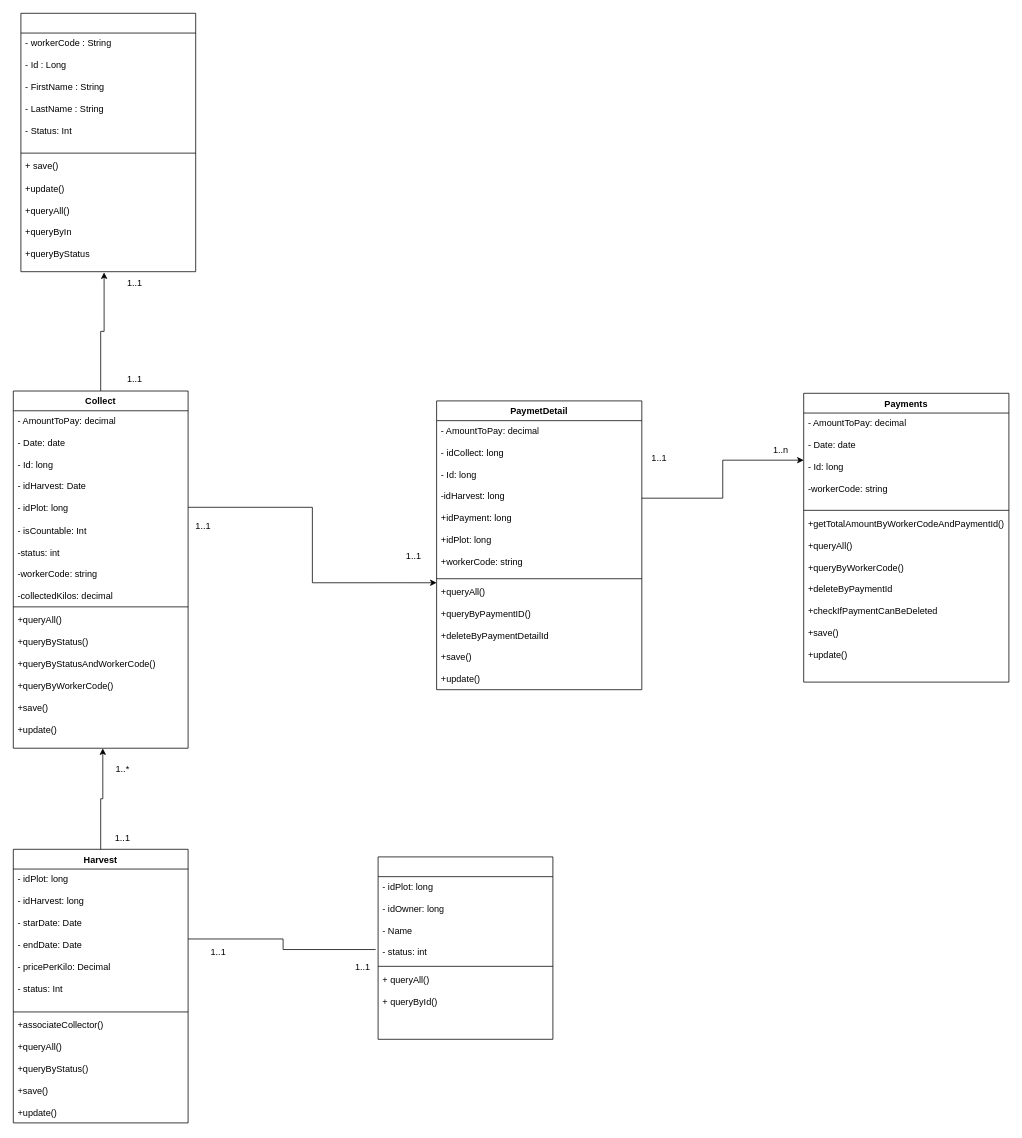
This 1022x1138 diagram has some shape labels left out. Each missing label, with the box of its shape:
Collector: (20, 13, 196, 272)
Plots: (377, 856, 553, 1039)
